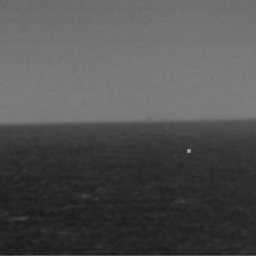Target: (186, 148, 192, 154)
